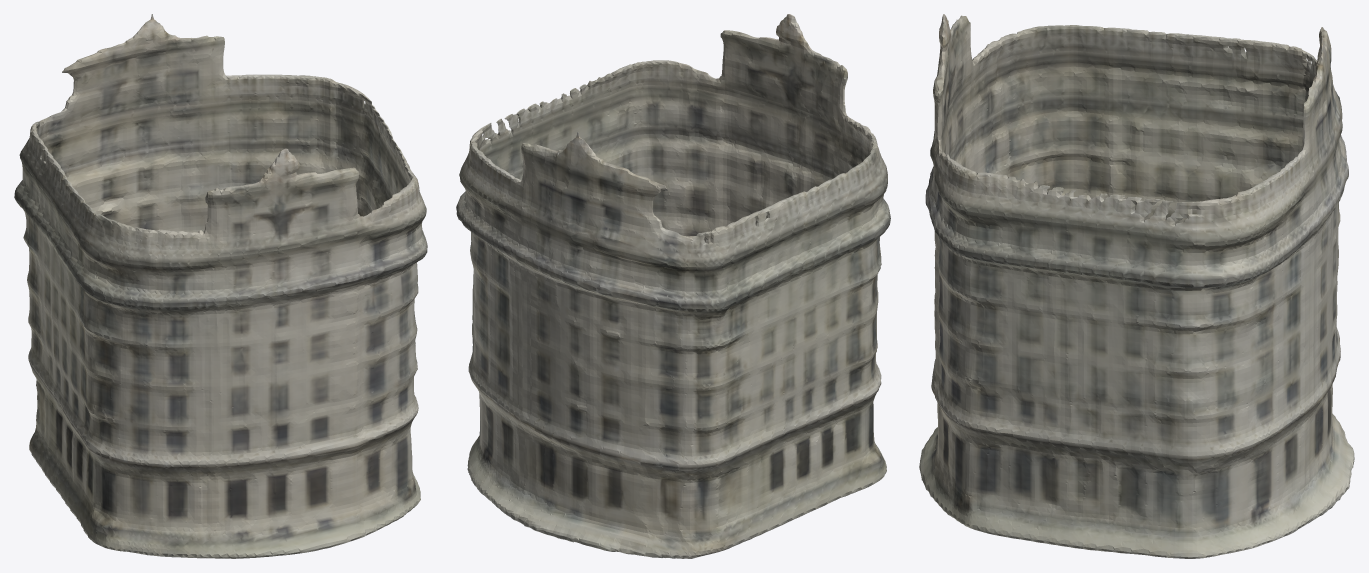
The model's file is sevilla.glb.
3 renders of one model, left to right at view 1: azimuth 30°, elevation 25°; view 2: azimuth 150°, elevation 25°; view 3: azimuth 270°, elevation 25°, orthographic. The views are drawn at different scales.
Parts seen in each view (by area): view 1: world; view 2: world; view 3: world.
Boxes of the visible parts, left/top/right/bottom form: world: left=14, top=14, right=427, bottom=558; world: left=456, top=14, right=890, bottom=558; world: left=919, top=14, right=1354, bottom=558.
Bounding box in the file's own units: 1.66 × 1.81 × 1.62.
